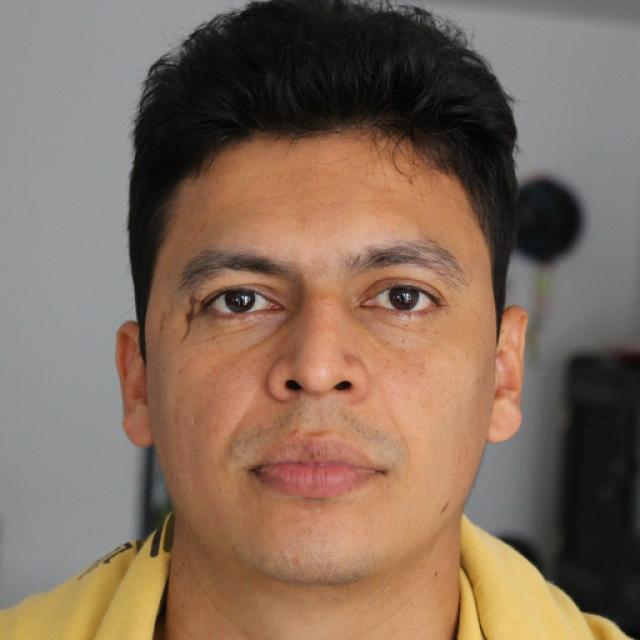neutral: (147, 126, 495, 584)
